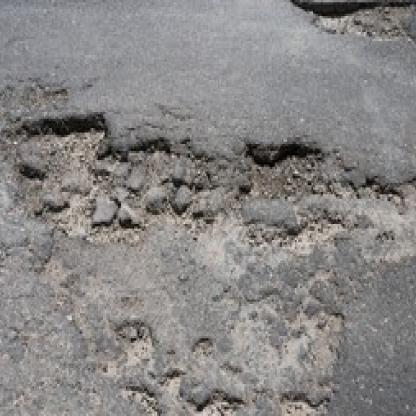pothole: (10, 112, 215, 245), (238, 142, 321, 215), (290, 0, 416, 44)
